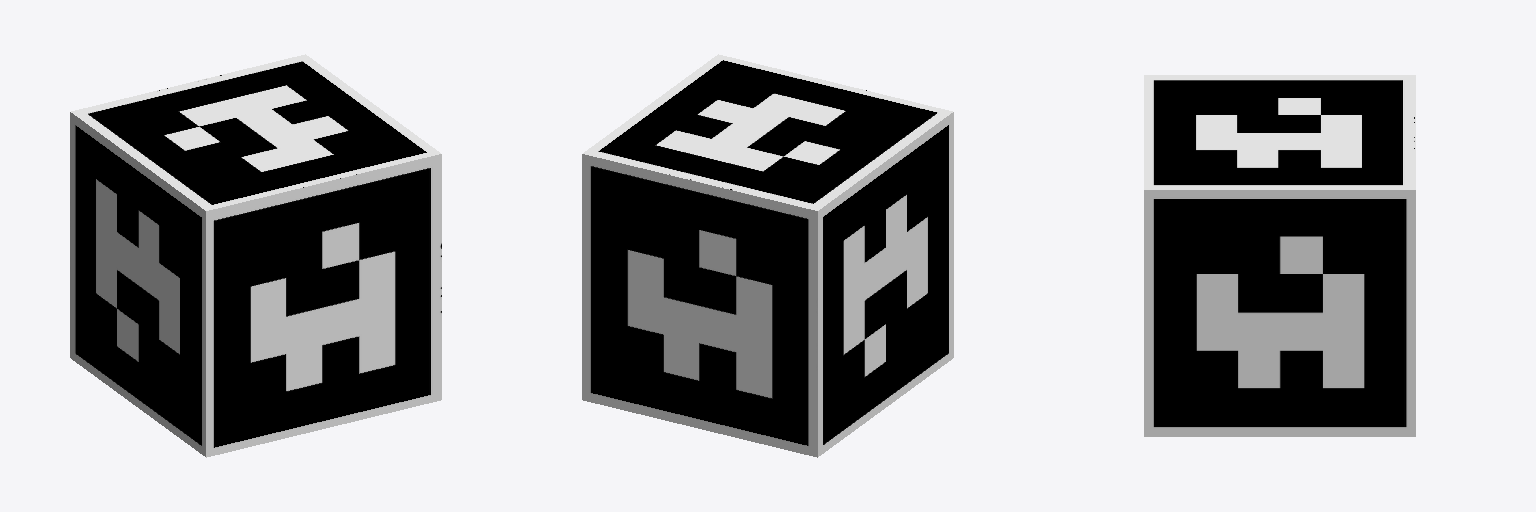
3 renders of one model, left to right at view 1: azimuth 30°, elevation 25°; view 2: azimuth 150°, elevation 25°; view 3: azimuth 270°, elevation 25°, orthographic.
Parts seen in each view (by area): view 1: Cube; view 2: Cube; view 3: Cube.
Part boxes in pixels (x1,y1,x2,y2): Cube: (70,54,441,457); Cube: (582,54,953,457); Cube: (1144,75,1415,436).
Size of the model in its own units: 2 by 2 by 2.
1 materials, 1 textured.